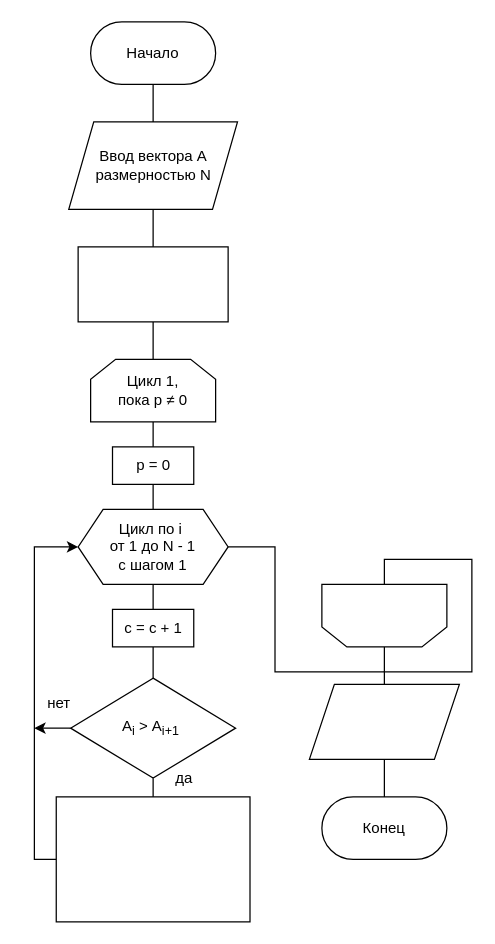
This 495x944 diagram has some shape labels left out. Each missing label, with the centre of its shape:
"p = 1 s = s + 1 t = A i A i = A i+1 A i+1 = t" goes at [152,859].
"p = 1, s = 0, c = 0" goes at [152,284].
"Вывод вектора A, s, c" goes at [383,721].
"Цикл 1" goes at [384,615].
